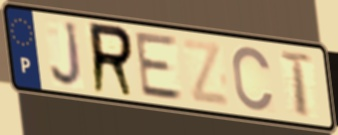C: (230, 44, 276, 114)
E: (133, 31, 187, 104)
J: (48, 20, 86, 91)
R: (87, 20, 138, 101)
T: (277, 49, 316, 120)
Z: (180, 36, 233, 110)
